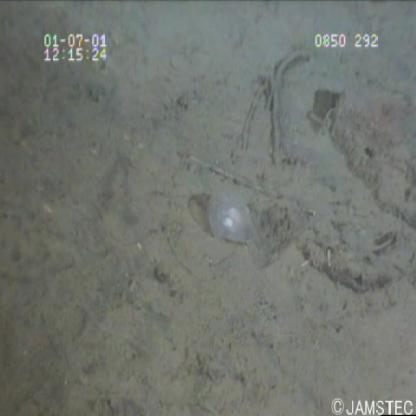Rác: (204, 177, 267, 262)
